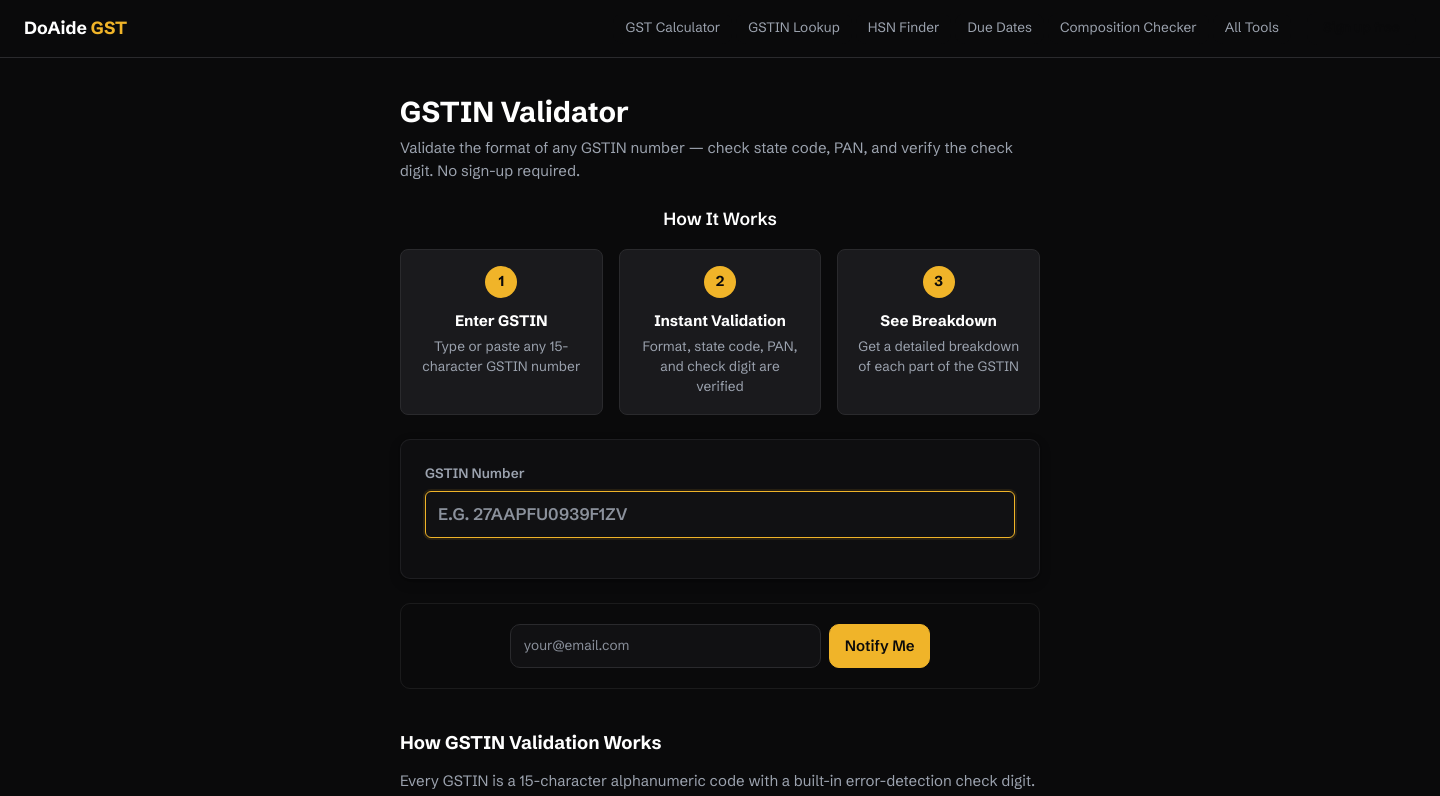
Test: GstinValidatorPage › shows error for too-short input
Type "27AAPFU" into the field with placeholder "e.g. 27AAPFU0939F1ZV" at (720, 514), box [425, 490, 1015, 538]
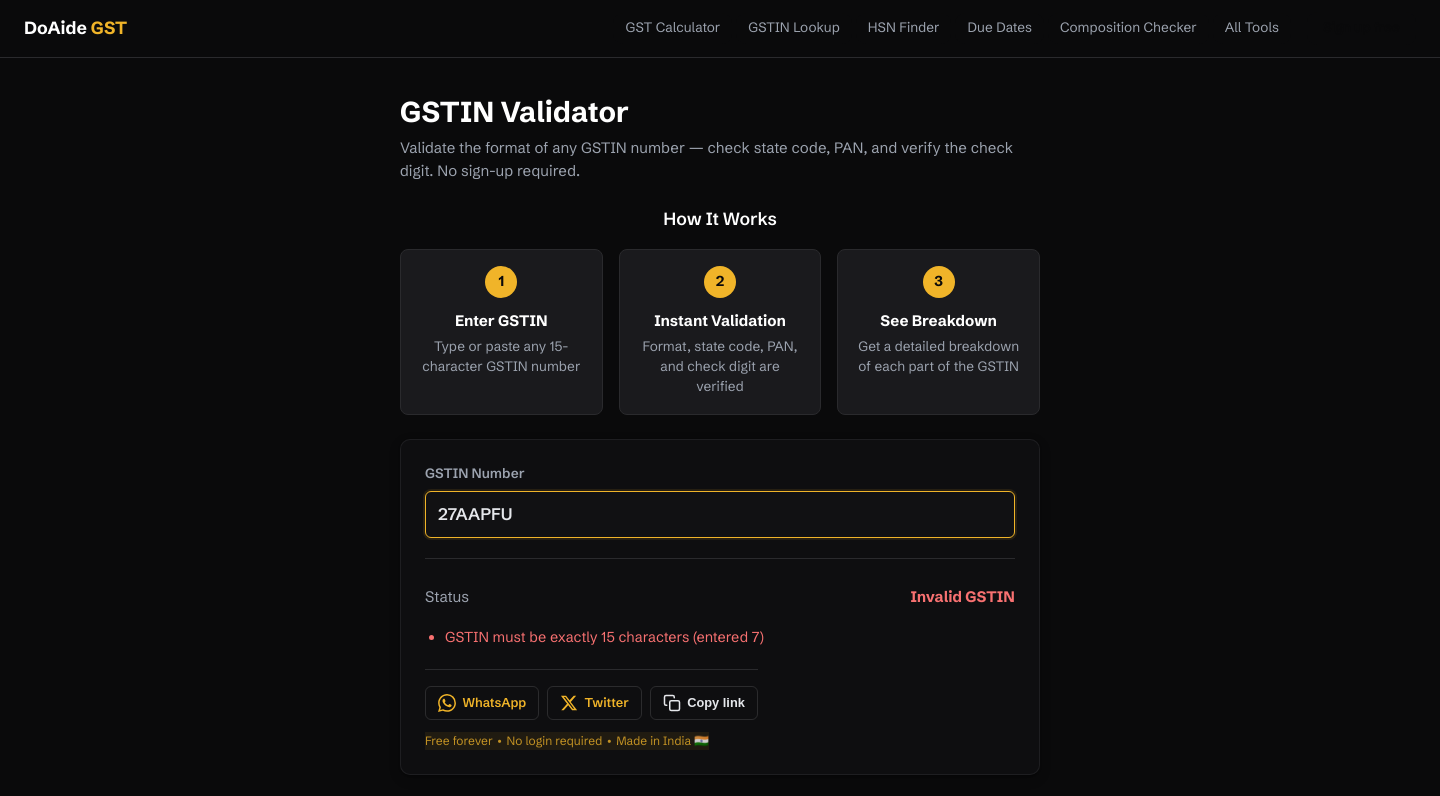
Result: the text "Invalid GSTIN" is shown at [910, 586, 1015, 609]
Result: the list item "GSTIN must be exactly 15 characters (entered 7)" is shown at [445, 628, 764, 646]
